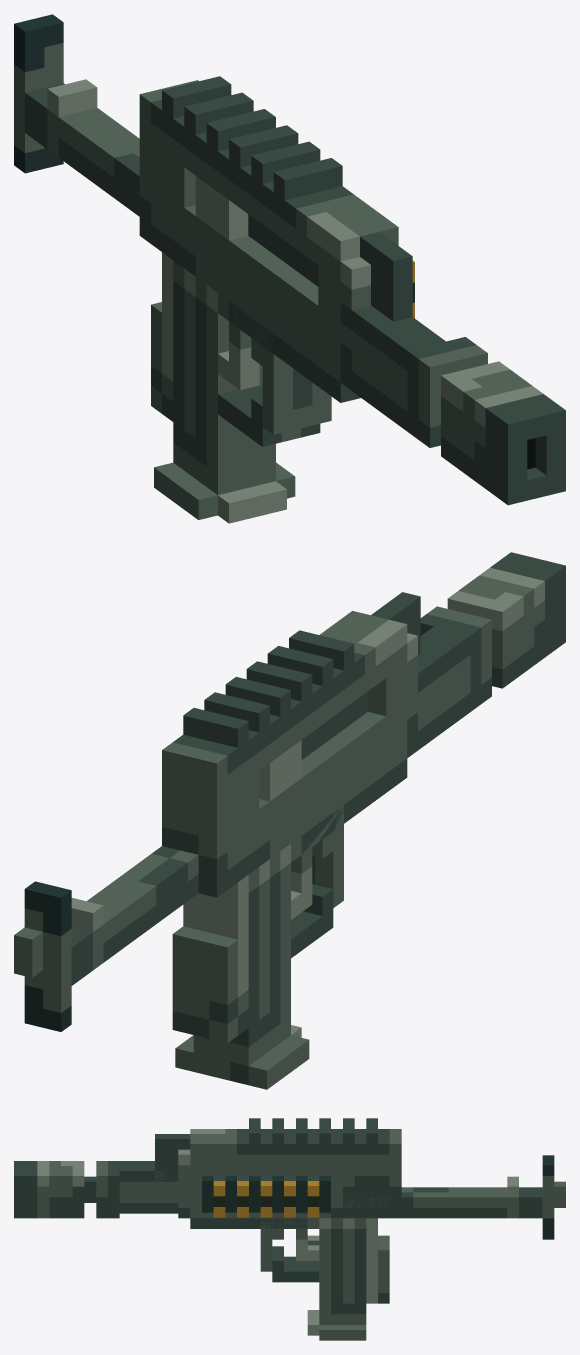
File: Uzi_C.fbx
The picture shows the model from 3 angles, top to bottom: view 1: azimuth 30°, elevation 25°; view 2: azimuth 150°, elevation 25°; view 3: azimuth 270°, elevation 25°; orthographic projection. The views are drawn at different scales.
Parts seen in each view (by area): view 1: Uzi_C; view 2: Uzi_C; view 3: Uzi_C.
Boxes of the visible parts, left/top/right/bottom form: Uzi_C: left=14, top=14, right=565, bottom=523; Uzi_C: left=14, top=552, right=565, bottom=1089; Uzi_C: left=14, top=1118, right=565, bottom=1340.
Size of the model in its own units: 7.5 by 23.75 by 58.75.
Materials: 1 (1 with a texture image).
